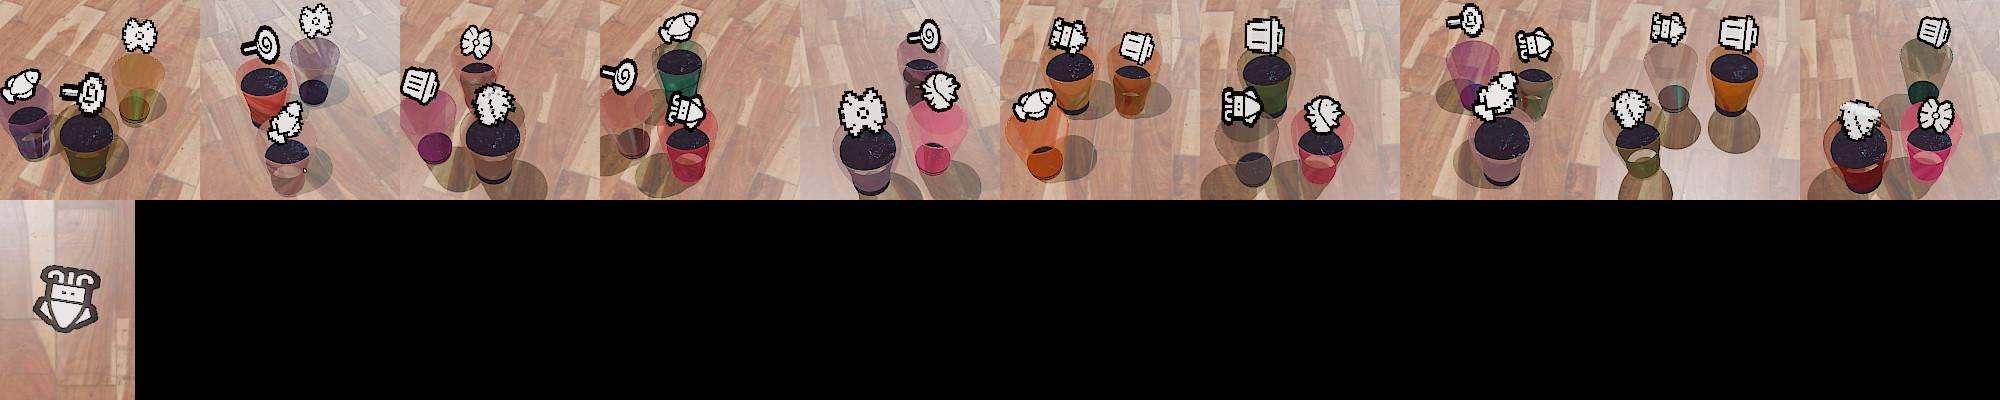icon: (32, 262, 103, 334), (837, 87, 889, 138), (1469, 70, 1519, 121), (59, 69, 107, 116), (471, 83, 515, 126), (1838, 98, 1883, 140), (920, 69, 960, 112), (1717, 14, 1760, 55), (1301, 94, 1346, 134), (1244, 14, 1286, 55), (1222, 84, 1263, 126), (267, 99, 306, 143), (665, 89, 708, 129), (399, 66, 441, 106), (1048, 17, 1091, 56), (1611, 88, 1651, 130), (0, 66, 42, 104), (1011, 88, 1055, 124), (241, 25, 281, 64), (658, 10, 700, 46), (1917, 96, 1955, 134), (599, 57, 638, 96), (1515, 25, 1555, 62), (121, 17, 157, 55), (1445, 3, 1483, 38), (1119, 29, 1156, 65), (1651, 11, 1687, 47), (298, 3, 333, 41), (459, 23, 492, 61), (1916, 15, 1950, 50), (908, 18, 941, 54)
